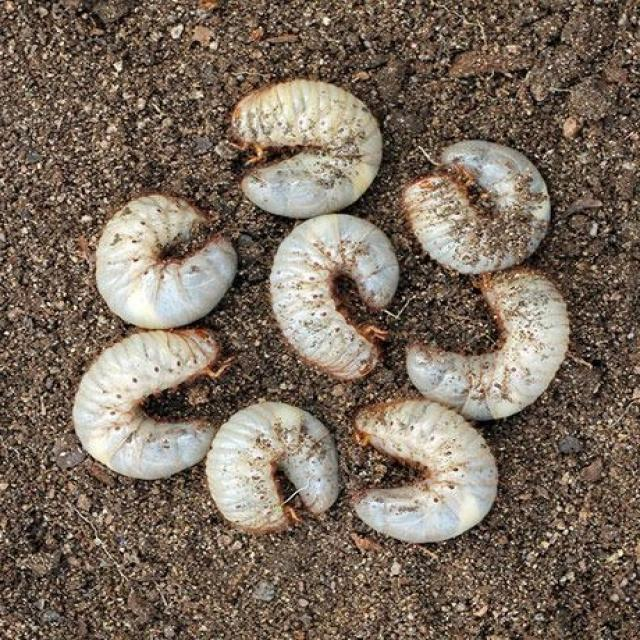grub: (320, 395, 506, 539), (228, 69, 381, 238), (403, 269, 565, 425), (67, 328, 220, 480), (394, 141, 557, 276), (269, 219, 387, 382), (193, 402, 343, 525), (91, 200, 228, 328)
